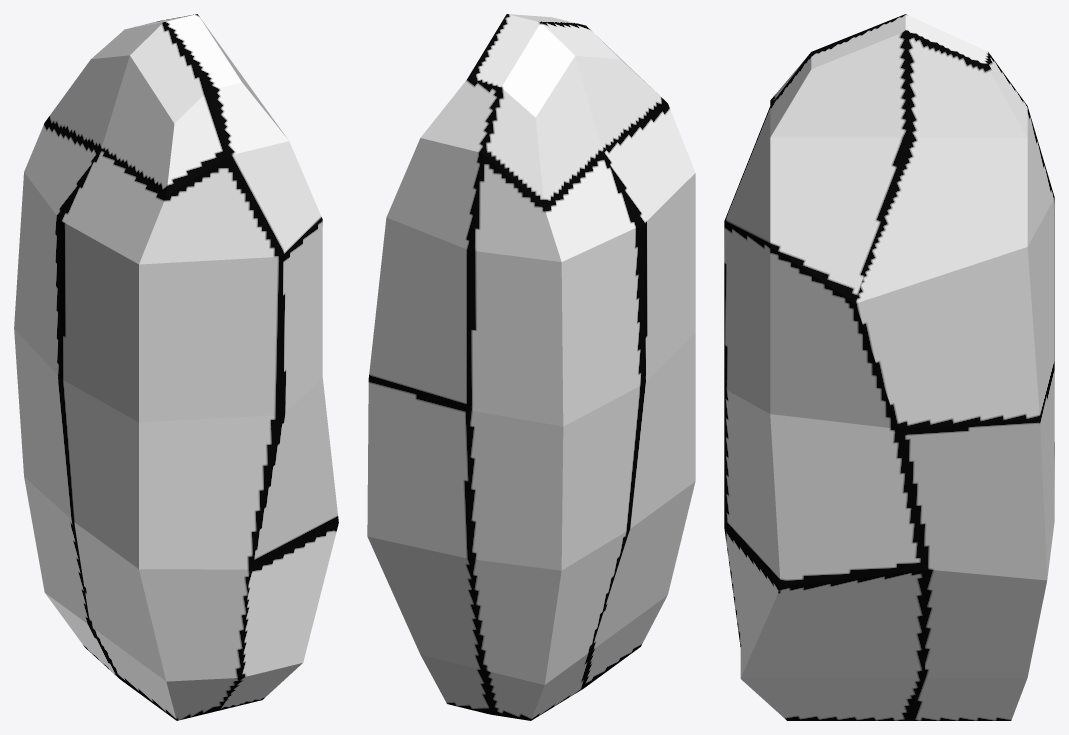
File: Boulder2.fbx
3 views of the same model, side by side, from view 1: azimuth 30°, elevation 25°; view 2: azimuth 150°, elevation 25°; view 3: azimuth 270°, elevation 25° (orthographic). The views are drawn at different scales.
Parts seen in each view (by area): view 1: Cube; view 2: Cube; view 3: Cube.
Part boxes in pixels (x1,y1,x2,y2): Cube: (14, 14, 338, 720); Cube: (367, 14, 695, 720); Cube: (724, 14, 1054, 720).
Bounding box in the file's own units: 546 × 1449 × 632.
Materials: 1 (1 with a texture image).
